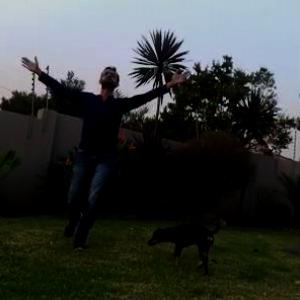takeoff: (23, 64, 169, 232)
